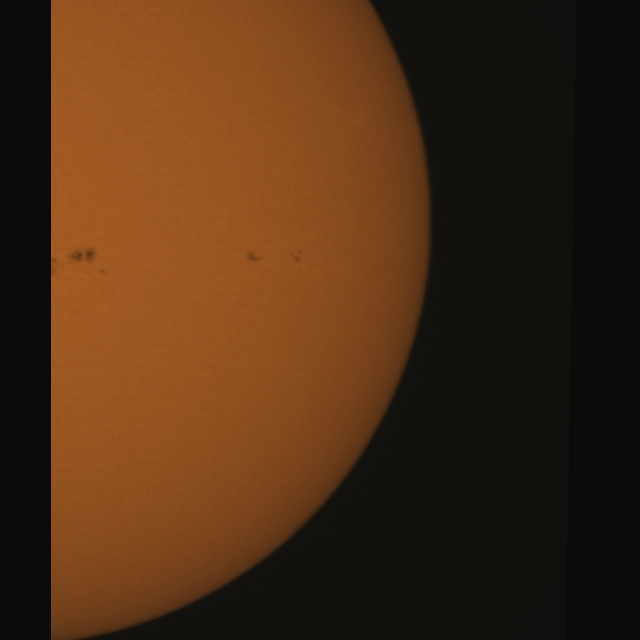sunspot: (61, 247, 99, 268), (289, 248, 306, 268), (246, 250, 265, 264)
